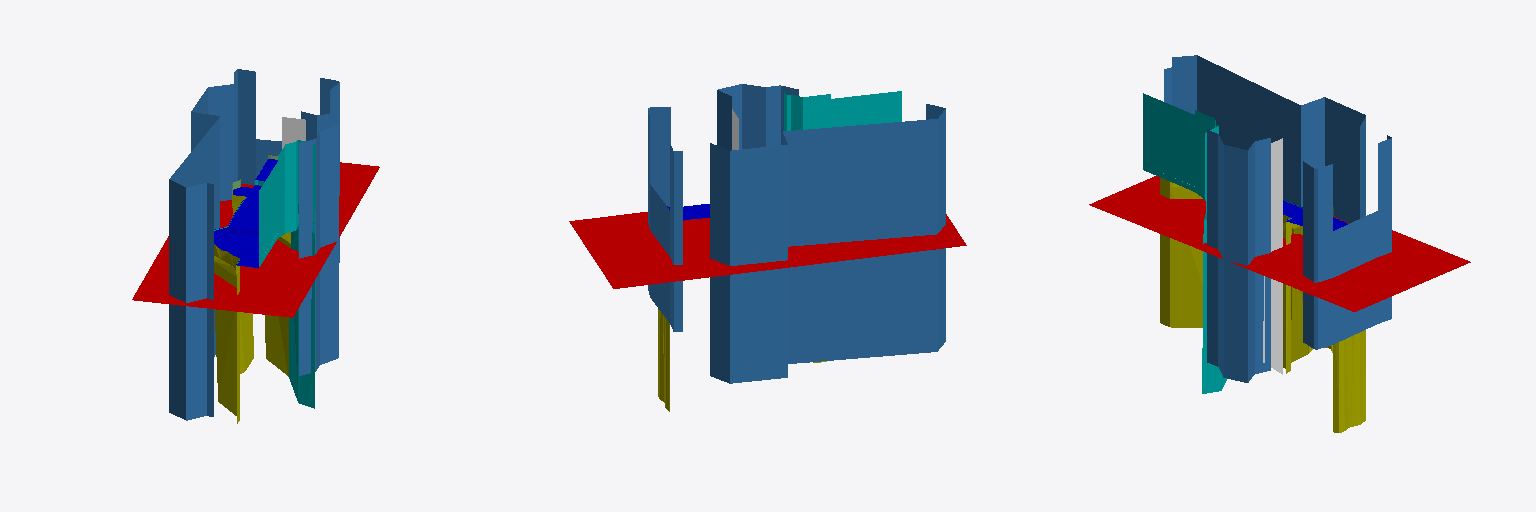
File: STG0100_COLI_14.OBJ
The picture shows the model from 3 angles: view 1: azimuth 30°, elevation 25°; view 2: azimuth 150°, elevation 25°; view 3: azimuth 270°, elevation 25°; orthographic projection.
Visible parts, largest first — view 1: STG0100_COLI_14_[number redacted], STG0100_COLI_14_[number redacted], STG0100_COLI_14_[number redacted], STG0100_COLI_14_[number redacted], STG0100_COLI_14_[number redacted], STG0100_COLI_14_[number redacted]; view 2: STG0100_COLI_14_[number redacted], STG0100_COLI_14_[number redacted], STG0100_COLI_14_[number redacted], STG0100_COLI_14_[number redacted]; view 3: STG0100_COLI_14_[number redacted], STG0100_COLI_14_[number redacted], STG0100_COLI_14_[number redacted], STG0100_COLI_14_[number redacted], STG0100_COLI_14_[number redacted].
Boxes of the visible parts, x1=… form: STG0100_COLI_14_[number redacted]: x1=169, y1=69, x2=339, y2=420; STG0100_COLI_14_[number redacted]: x1=132, y1=162, x2=379, y2=317; STG0100_COLI_14_[number redacted]: x1=214, y1=140, x2=315, y2=408; STG0100_COLI_14_[number redacted]: x1=214, y1=195, x2=290, y2=423; STG0100_COLI_14_[number redacted]: x1=214, y1=159, x2=277, y2=267; STG0100_COLI_14_[number redacted]: x1=282, y1=117, x2=305, y2=148; STG0100_COLI_14_[number redacted]: x1=648, y1=84, x2=945, y2=383; STG0100_COLI_14_[number redacted]: x1=569, y1=212, x2=966, y2=288; STG0100_COLI_14_[number redacted]: x1=784, y1=91, x2=901, y2=130; STG0100_COLI_14_[number redacted]: x1=658, y1=309, x2=826, y2=411; STG0100_COLI_14_[number redacted]: x1=1164, y1=55, x2=1391, y2=382; STG0100_COLI_14_[number redacted]: x1=1089, y1=176, x2=1470, y2=311; STG0100_COLI_14_[number redacted]: x1=1160, y1=178, x2=1365, y2=432; STG0100_COLI_14_[number redacted]: x1=1143, y1=93, x2=1302, y2=393; STG0100_COLI_14_[number redacted]: x1=1263, y1=138, x2=1282, y2=374.
Size of the model in its own units: 2566 by 2095 by 2632.